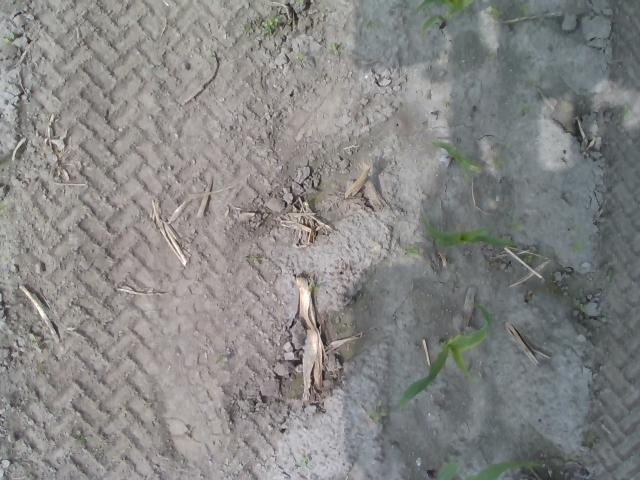Maize: (399, 302, 493, 408), (422, 216, 514, 250), (436, 457, 546, 480), (414, 0, 472, 35), (432, 138, 482, 174)
Weeds: (242, 16, 289, 36), (368, 398, 388, 423), (0, 33, 21, 50), (28, 332, 42, 352), (487, 5, 504, 18), (491, 157, 506, 169), (406, 244, 420, 256), (572, 242, 586, 254), (520, 2, 531, 15), (0, 202, 10, 215), (296, 54, 306, 64), (523, 254, 533, 263), (296, 0, 304, 6)
